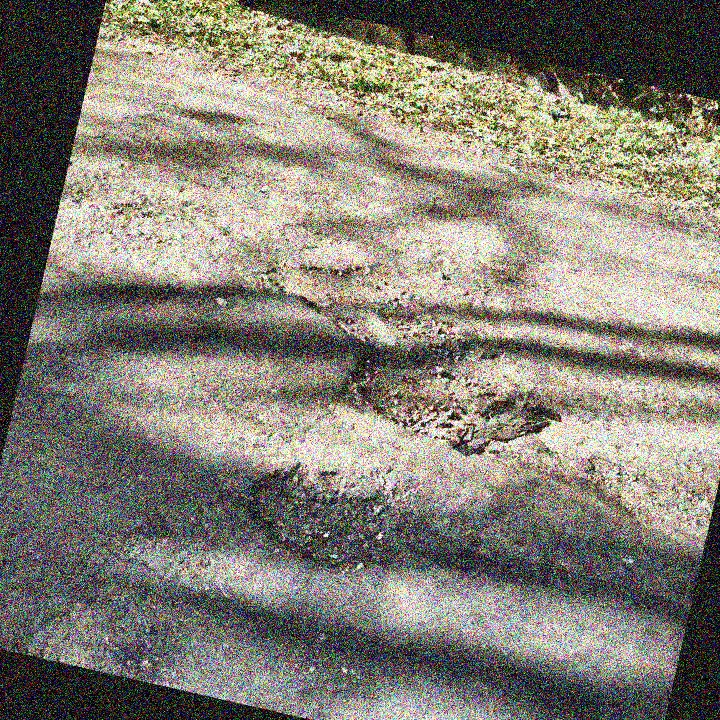pothole: (234, 232, 561, 462), (230, 445, 423, 588)
